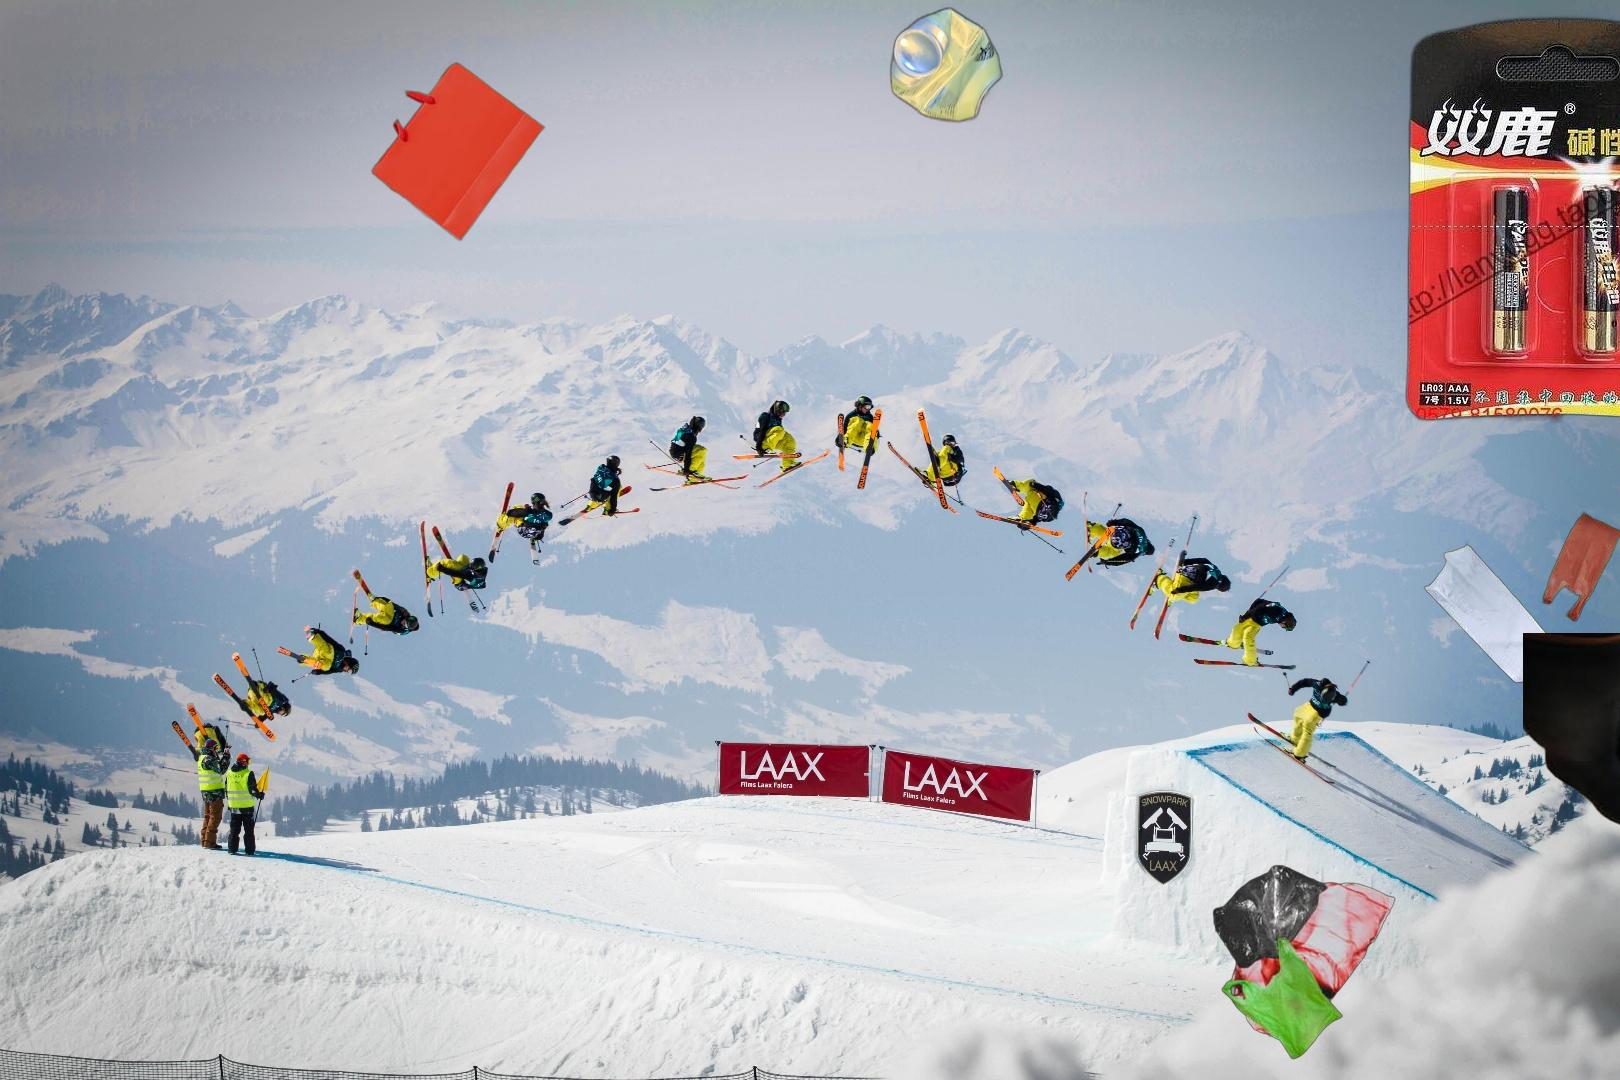battery: (1399, 13, 1620, 425)
metal-cans: (887, 1, 1006, 128)
paper-bag: (369, 60, 547, 248)
plastic-bag: (1375, 450, 1620, 686), (1210, 864, 1396, 1060), (1538, 33, 1620, 272)
shoes: (1524, 633, 1620, 832)
